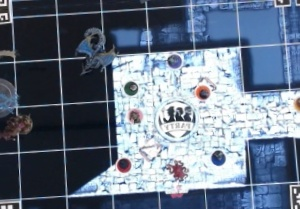green: (122, 78, 141, 96)
orange: (194, 81, 214, 101)
pink: (125, 105, 144, 124)
red: (114, 155, 134, 175)
violet: (163, 50, 186, 69), (208, 148, 226, 166)
yellow: (290, 91, 300, 114)
